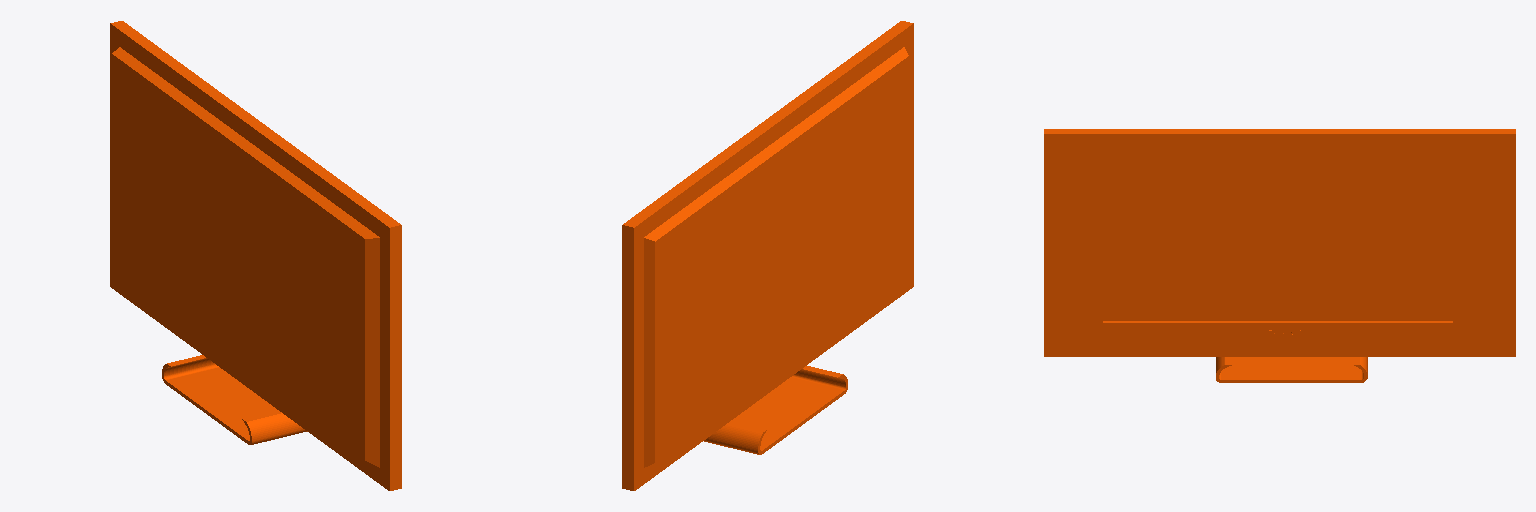
The robot description file, URDF, robot "TV_b90fa55afb2686402be11bf30d34bea3":
<?xml version="1.0" ?>
<robot name="TV_b90fa55afb2686402be11bf30d34bea3">
   <material name="obj_color">
      <color rgba="1.0 0.423529411765 0.0392156862745 1.0"/>
   </material>
   <link name="top">
      <inertial>
         <origin rpy="0.001874248158541357 0.005220235490645876 0.00697163352686746" xyz="-0.0002179696395177858 0.001017369649253805 0.002270480141096618"/>
         <mass value="0.983466378751411"/>
         <inertia ixx="0.006971266485957411" ixy="4.328823297085506e-06" ixz="-2.525291464267838e-05" iyy="0.001874573525035229" iyz="3.278623685644974e-05" izz="0.005220277165062049"/>
      </inertial>
      <visual>
         <origin rpy="0 0 0" xyz="0 0 0"/>
         <geometry>
            <mesh filename="top_watertight_tiny.stl" scale="1 1 1"/>
         </geometry>
         <material name="obj_color"/>
      </visual>
      <collision>
         <origin rpy="0 0 0" xyz="0 0 0"/>
         <geometry>
            <mesh filename="top_watertight_tiny.obj" scale="1 1 1"/>
         </geometry>
      </collision>
   </link>
   <link name="bottom">
      <inertial>
         <origin rpy="1.633333333199431e-08 1.633333333199431e-08 1.633333333362855e-08" xyz="0.3464080000000008 0.3464080000000008 0.3464080000000008"/>
         <mass value="0.0009800000000000017"/>
         <inertia ixx="1.633333333253906e-08" ixy="5.447480642029219e-19" ixz="5.447480642029219e-19" iyy="1.633333333253906e-08" iyz="5.447480642029219e-19" izz="1.633333333253906e-08"/>
      </inertial>
      <visual>
         <origin rpy="0 0 0" xyz="0 0 0"/>
         <geometry>
            <mesh filename="bottom_watertight_tiny.stl" scale="1 1 1"/>
         </geometry>
         <material name="obj_color"/>
      </visual>
   </link>
   <link name="world"/>
   <joint name="world_to_base" type="fixed">
      <origin xyz="0 0 0"/>
      <axis xyz="0 0 0"/>
      <parent link="world"/>
      <child link="bottom"/>
   </joint>
   <joint name="rotation" type="revolute">
      <origin xyz="0 0 0"/>
      <axis xyz="0 0 -1"/>
      <parent link="bottom"/>
      <child link="top"/>
      <dynamics damping="1.0" friction="1.0"/>
      <limit effort="0.1" velocity="0.1" lower="0" upper="0.001"/>
   </joint>
</robot>

--- Render facts (derived) ---
Views: 3 orthographic renders of the robot side by side, from view 1: azimuth 30°, elevation 25°; view 2: azimuth 150°, elevation 25°; view 3: azimuth 270°, elevation 25°.
Model TV_b90fa55afb2686402be11bf30d34bea3 with 3 links and 2 joints (1 revolute, 1 fixed), rooted at world, posed all joints at 0.
Visible links, largest first — view 1: top; view 2: top; view 3: top.
Boxes of the visible links, left/top/right/bottom form: top: left=110, top=21, right=401, bottom=490; top: left=622, top=21, right=913, bottom=490; top: left=1044, top=129, right=1515, bottom=382.
Size in the robot's own frame: 0.0401 by 0.2842 by 0.1602 metres.
1 mesh visuals loaded from 2 distinct referenced files (1 binary STL); not drawn: 1 (reference not matched to a file when rendering).
